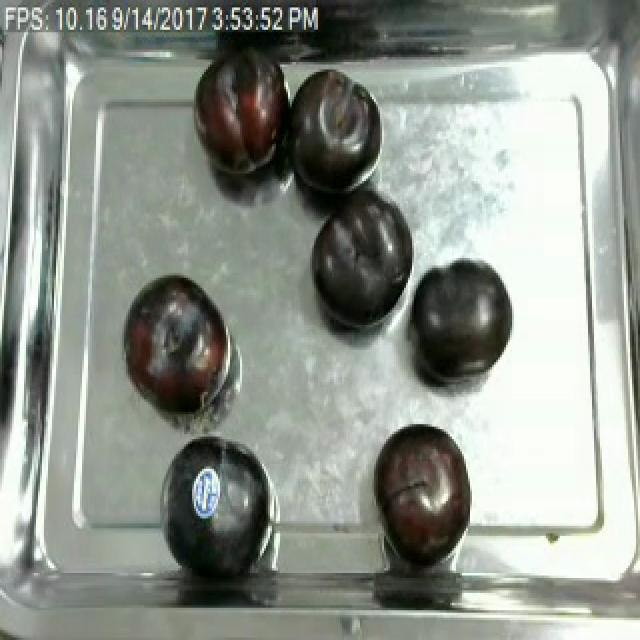Fruit: (150, 429, 282, 586), (116, 268, 234, 422), (370, 416, 474, 566), (184, 47, 296, 184), (304, 196, 414, 335), (282, 60, 386, 204), (406, 255, 518, 387)
